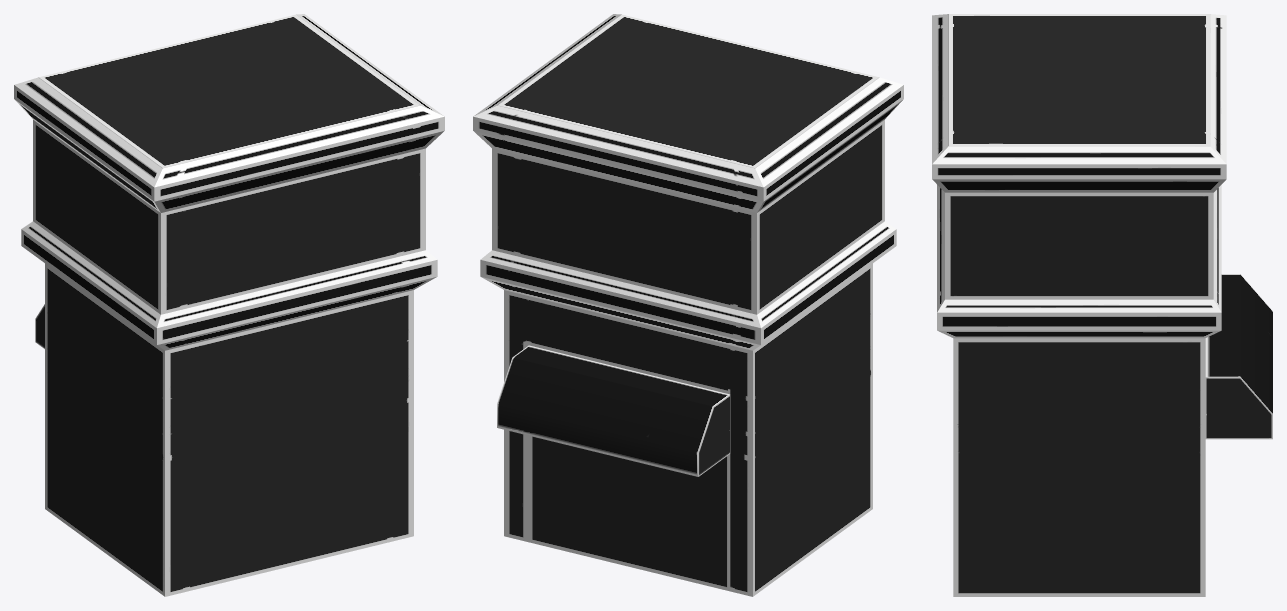
The model's file is BuildingAwningGGJ.fbx.
3 views of the same model, side by side, from view 1: azimuth 30°, elevation 25°; view 2: azimuth 150°, elevation 25°; view 3: azimuth 270°, elevation 25° (orthographic). The views are drawn at different scales.
Parts seen in each view (by area): view 1: pCube100; view 2: pCube100; view 3: pCube100.
Boxes of the visible parts, left/top/right/bottom form: pCube100: left=14, top=14, right=444, bottom=596; pCube100: left=473, top=14, right=903, bottom=596; pCube100: left=932, top=14, right=1272, bottom=596.
Size of the model in its own units: 19.8 by 28.1 by 19.15.
